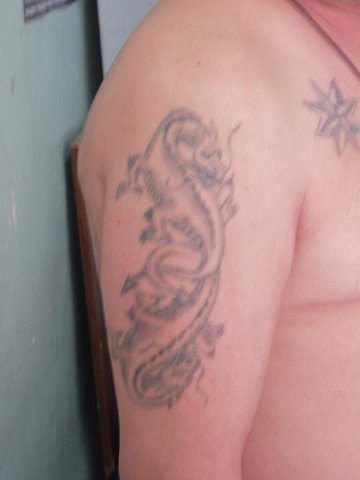tatu4_zvezda: (299, 64, 360, 155)
tatu6_drakon: (91, 83, 268, 416)
